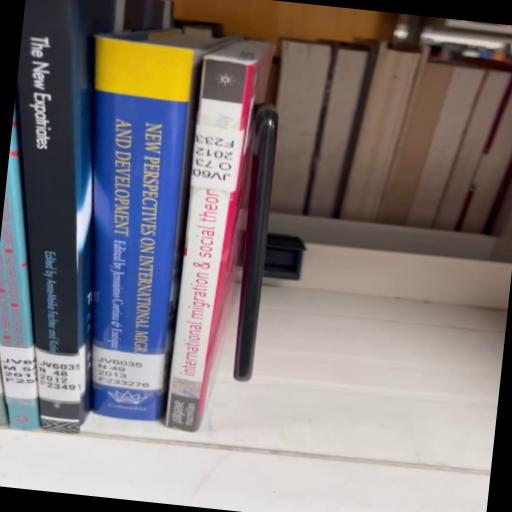reverse: (166, 41, 278, 433)
